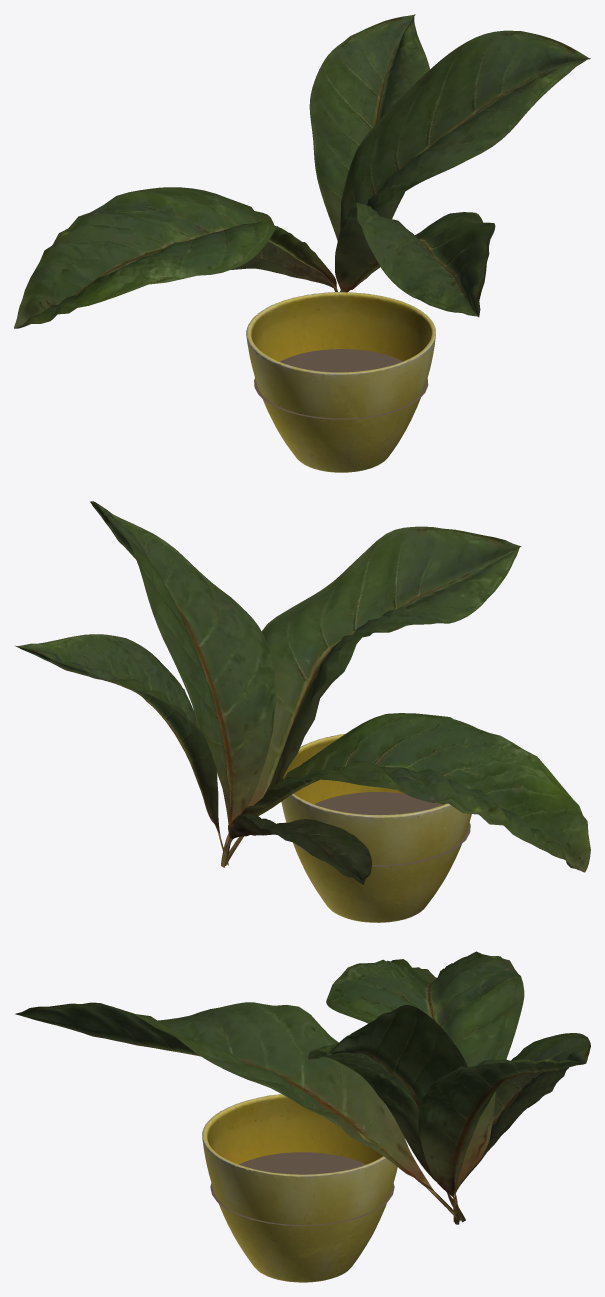
The model's file is ph-anthurium-mini.glb.
The picture shows the model from 3 angles, top to bottom: view 1: azimuth 30°, elevation 25°; view 2: azimuth 150°, elevation 25°; view 3: azimuth 270°, elevation 25°; orthographic projection. The views are drawn at different scales.
Parts seen in each view (by area): view 1: anthurium_botany_05_e, Ecoforms_Plant_Container_B4_Har, soil; view 2: anthurium_botany_05_e, Ecoforms_Plant_Container_B4_Har, soil; view 3: anthurium_botany_05_e, Ecoforms_Plant_Container_B4_Har, soil.
Boxes of the visible parts, left/top/right/bottom form: anthurium_botany_05_e: left=14, top=14, right=590, bottom=328; Ecoforms_Plant_Container_B4_Har: left=246, top=292, right=435, bottom=472; soil: left=254, top=349, right=428, bottom=419; anthurium_botany_05_e: left=15, top=501, right=590, bottom=884; Ecoforms_Plant_Container_B4_Har: left=281, top=734, right=471, bottom=922; soil: left=293, top=792, right=470, bottom=866; anthurium_botany_05_e: left=15, top=951, right=590, bottom=1224; Ecoforms_Plant_Container_B4_Har: left=202, top=1094, right=397, bottom=1282; soil: left=210, top=1152, right=394, bottom=1226.
Bounding box in the file's own units: 0.3199 × 0.2002 × 0.2901.
3 materials, 2 textured.
